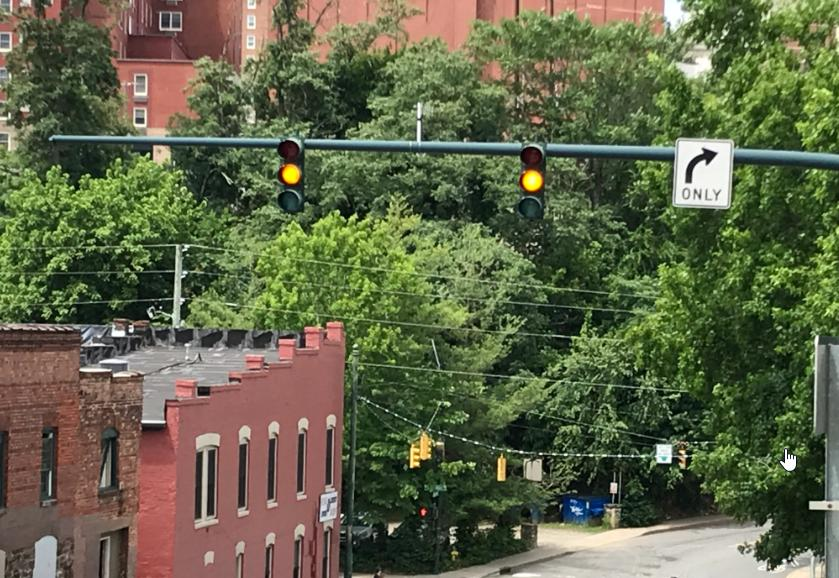yellow_light: (277, 140, 305, 214), (518, 145, 545, 218)
